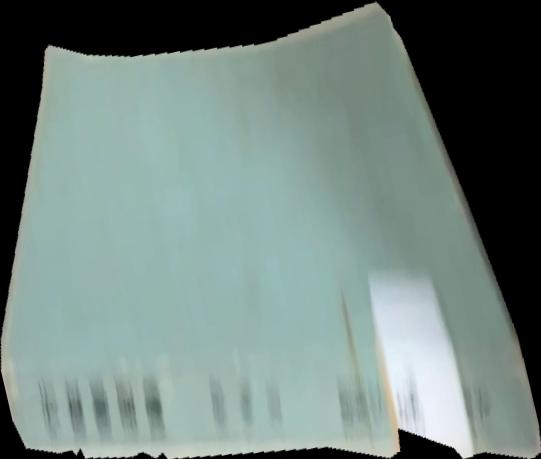flat: (1, 1, 541, 459)
